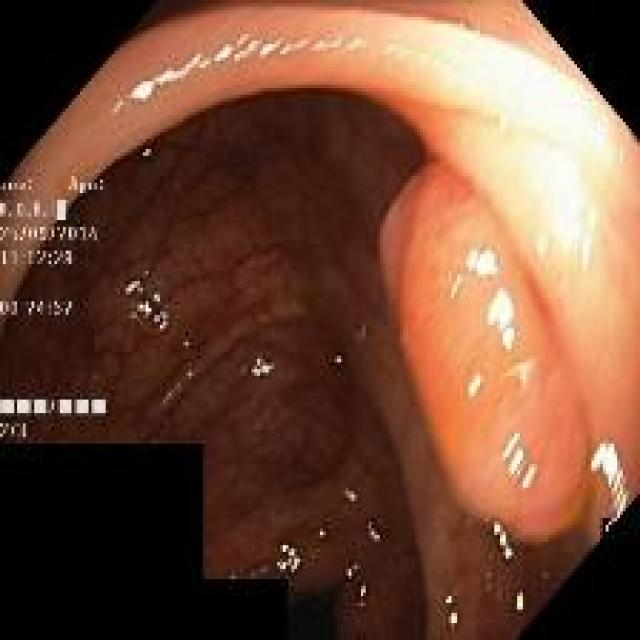Polyps: (382, 164, 589, 541)
